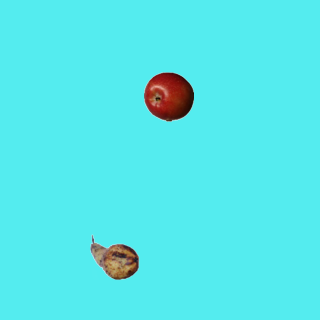Apple Braeburn: (143, 71, 193, 121)
Pear Abate: (89, 232, 139, 282)
